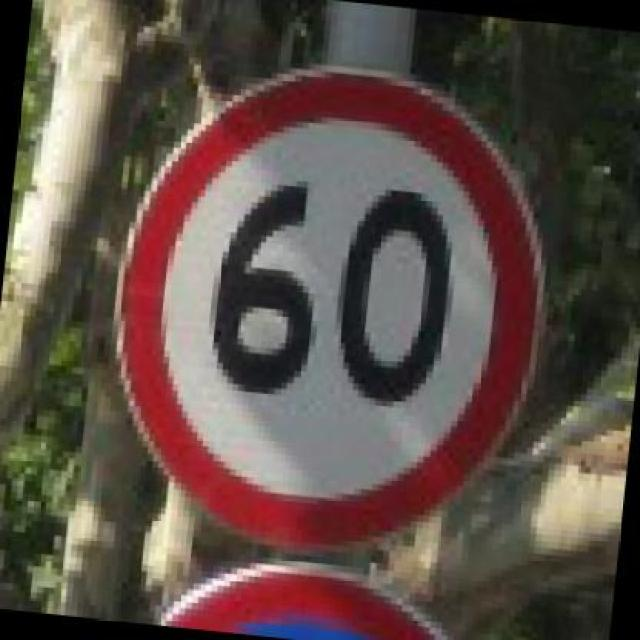Limite-60: (112, 65, 546, 556)
